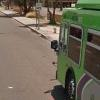Bus: (52, 5, 100, 100)
